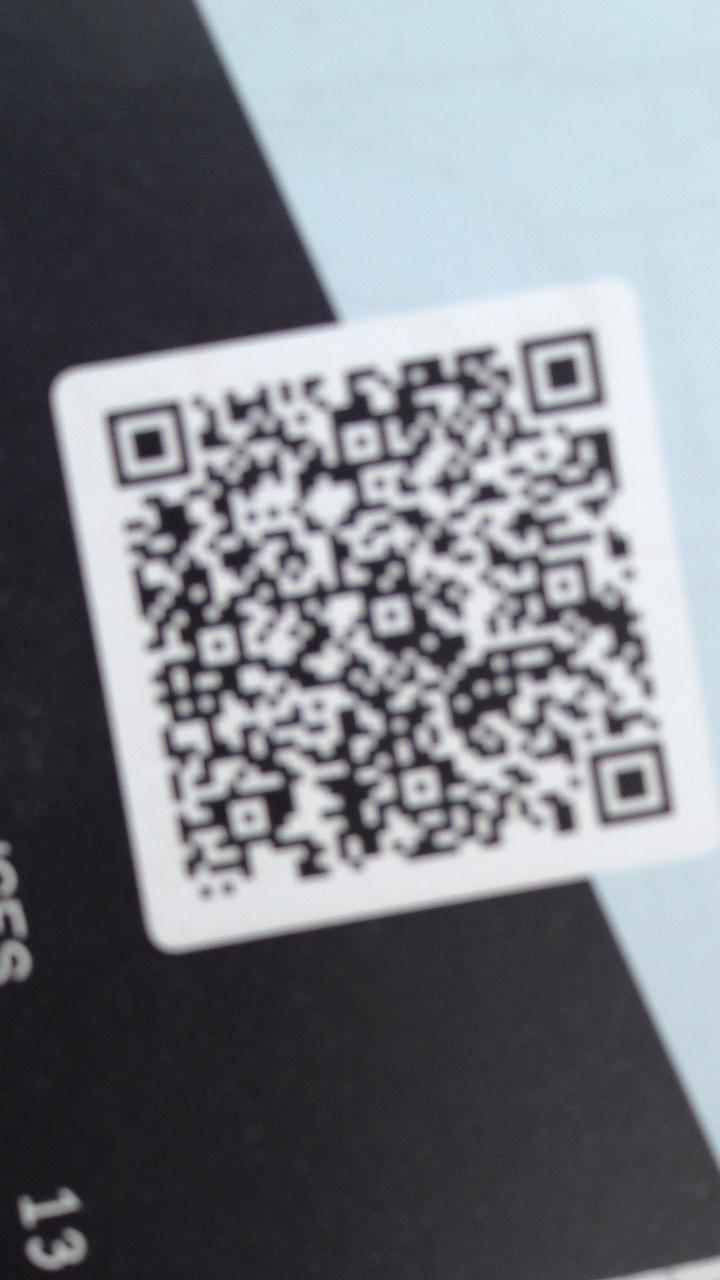qr_code: (106, 332, 672, 902)
